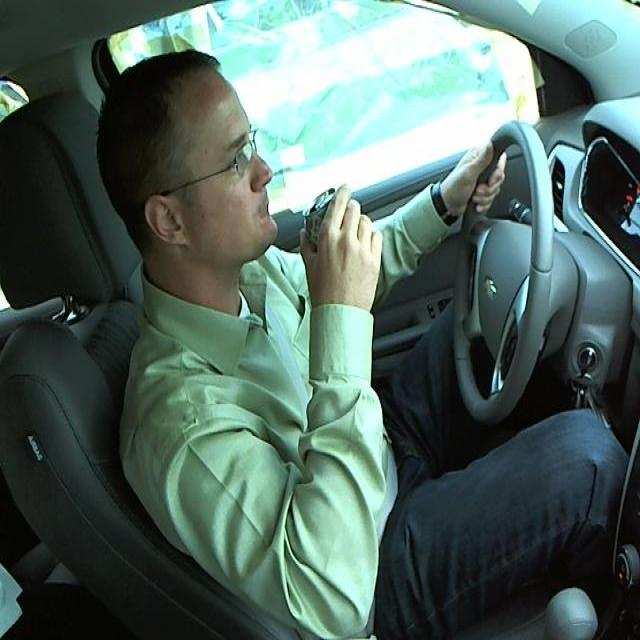drinking: (302, 178, 384, 306)
